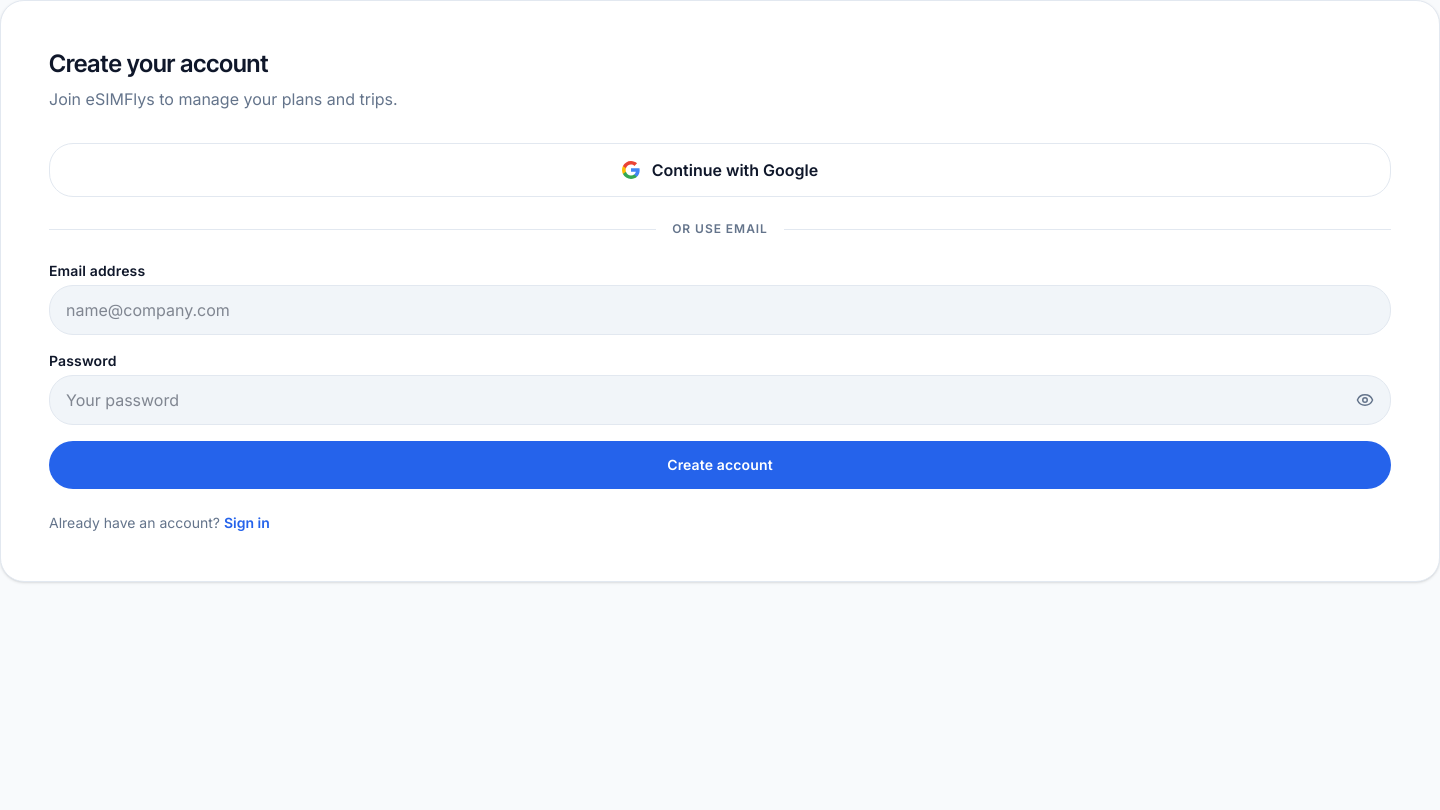
when the server refuses › surfaces per-field validation against the field itself
In the field named "email address": (720, 310) x1=49 y1=285 x2=1391 y2=335, type "traveller@example.com"
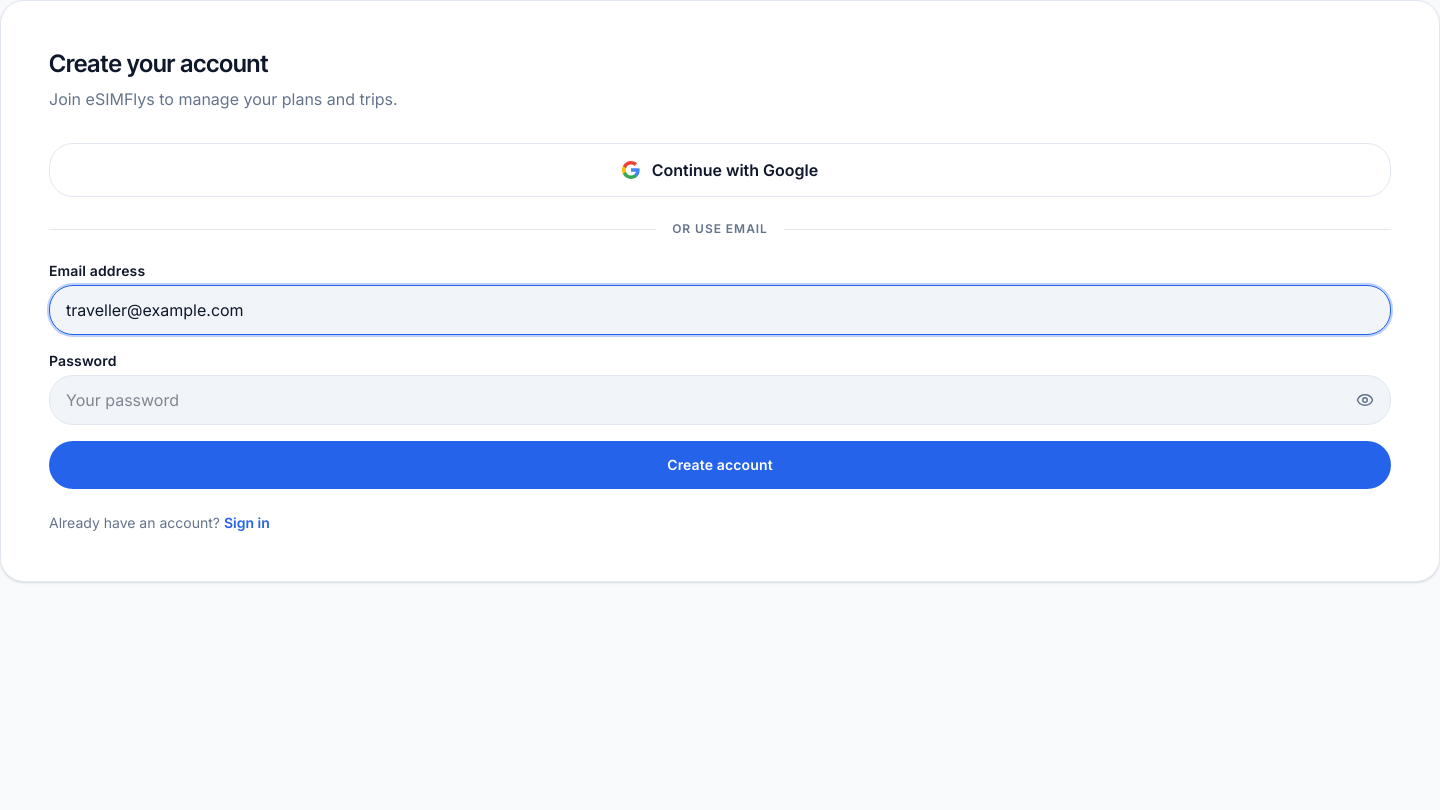
In the password field labelled "Your password": (720, 400) x1=49 y1=375 x2=1391 y2=425, type "correct-horse-battery"
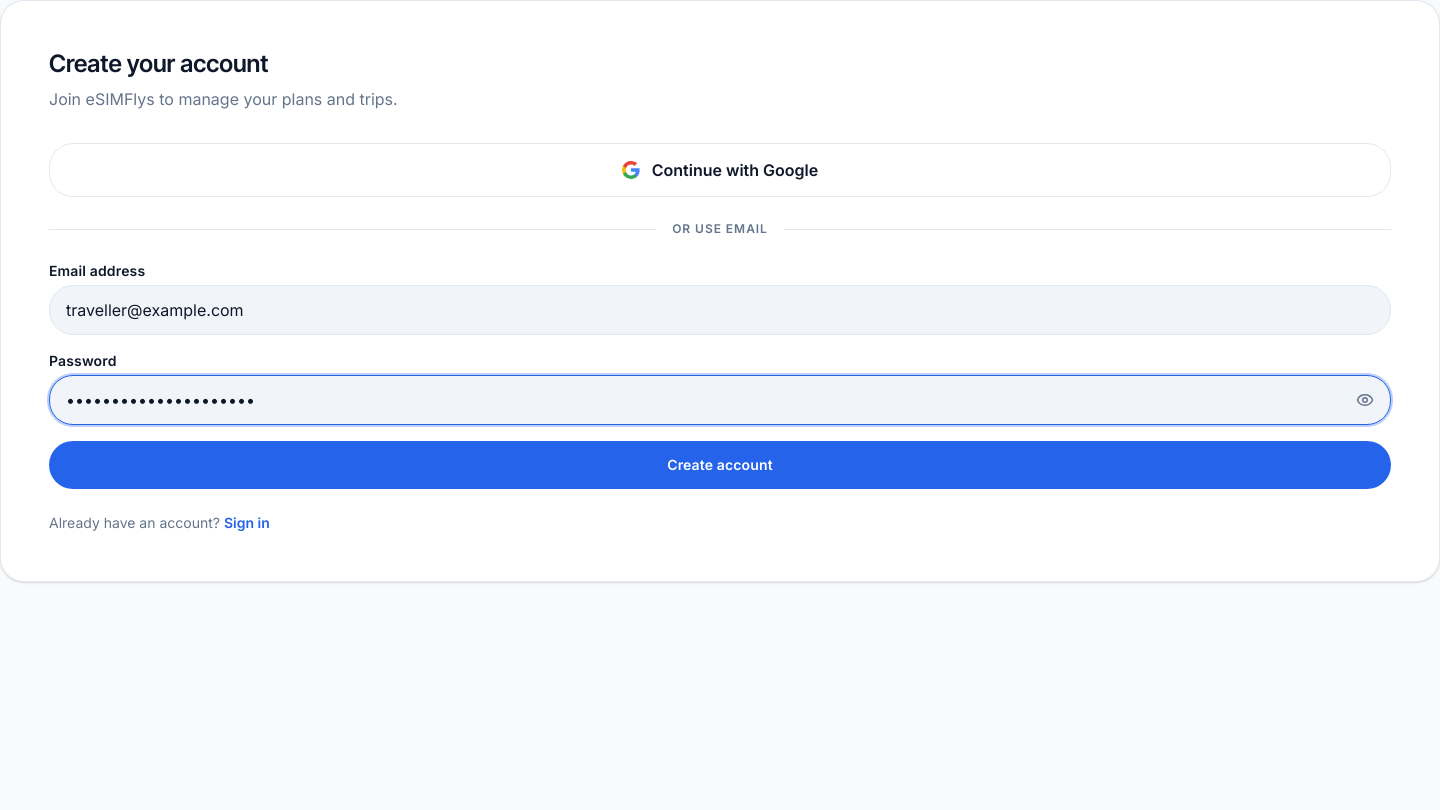
Click the 2nd button: (720, 465) x1=49 y1=441 x2=1391 y2=489
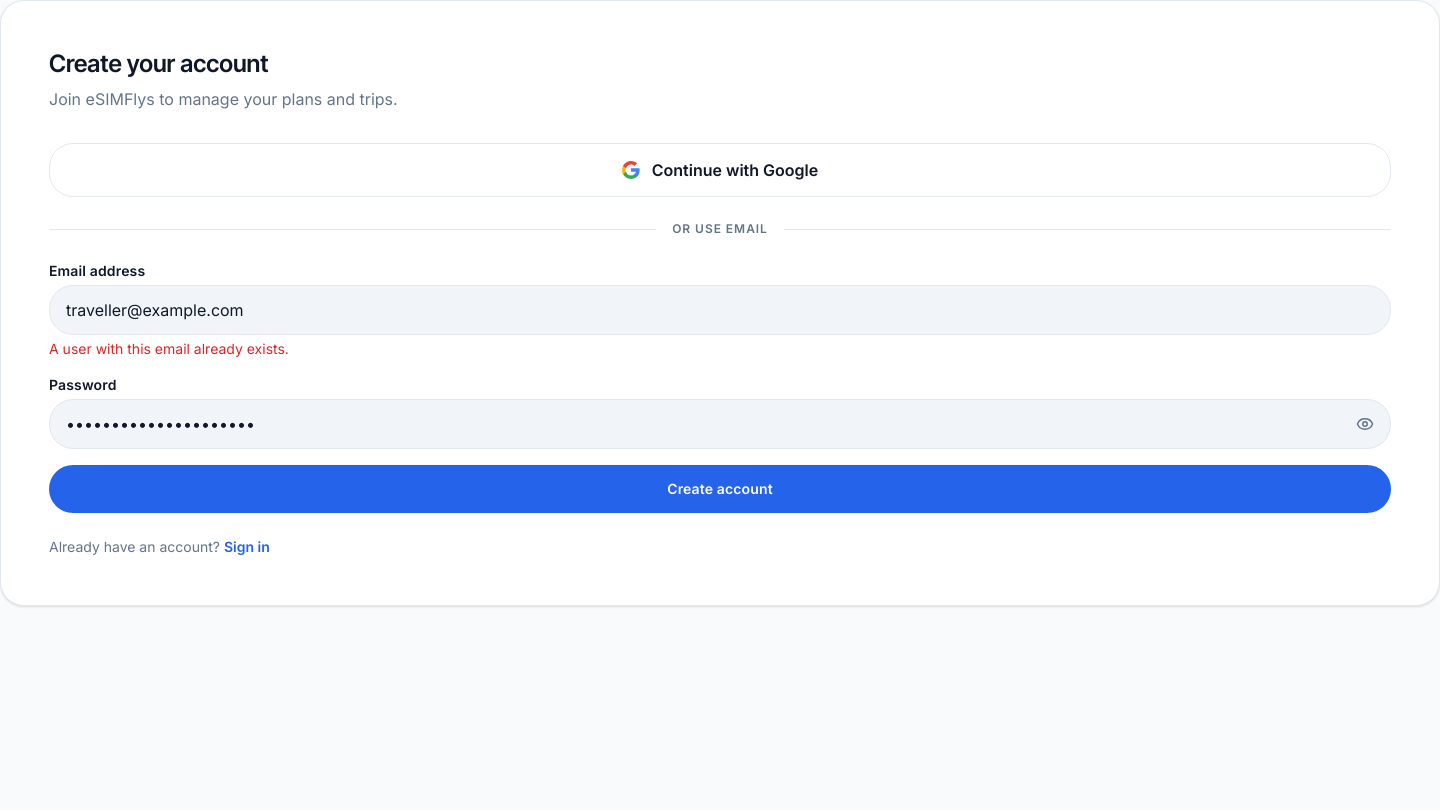
Check: the text "already exists" is shown, box x1=49 y1=340 x2=289 y2=357
